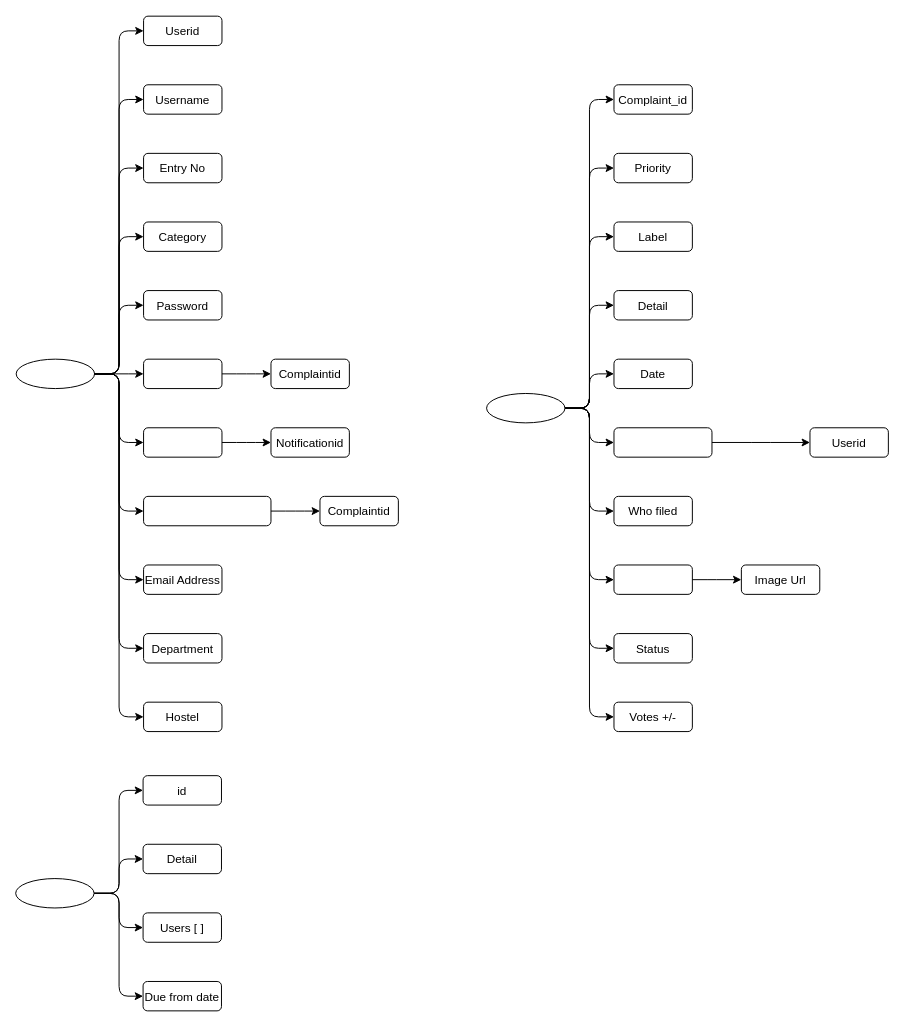
Some shapes in this 905 by 1027 pixel diagram are drawn without their labels. The shapes that lost their labels are listed below. From the top down, each one's centre as x and y in pixels, then its label:
pixel 55 373: User
pixel 182 373: Complaints[ ]
pixel 525 407: Complaint
pixel 182 442: Notifications[ ]
pixel 662 442: Tagged Users[ ]
pixel 207 510: Tagged Complaints [ ]
pixel 652 579: Attachments
pixel 54 893: Notification
